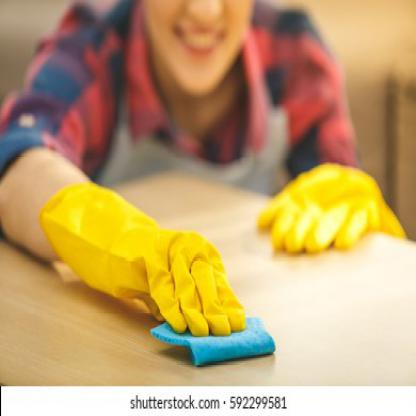with_gloves: (40, 178, 248, 333), (254, 160, 409, 257)
